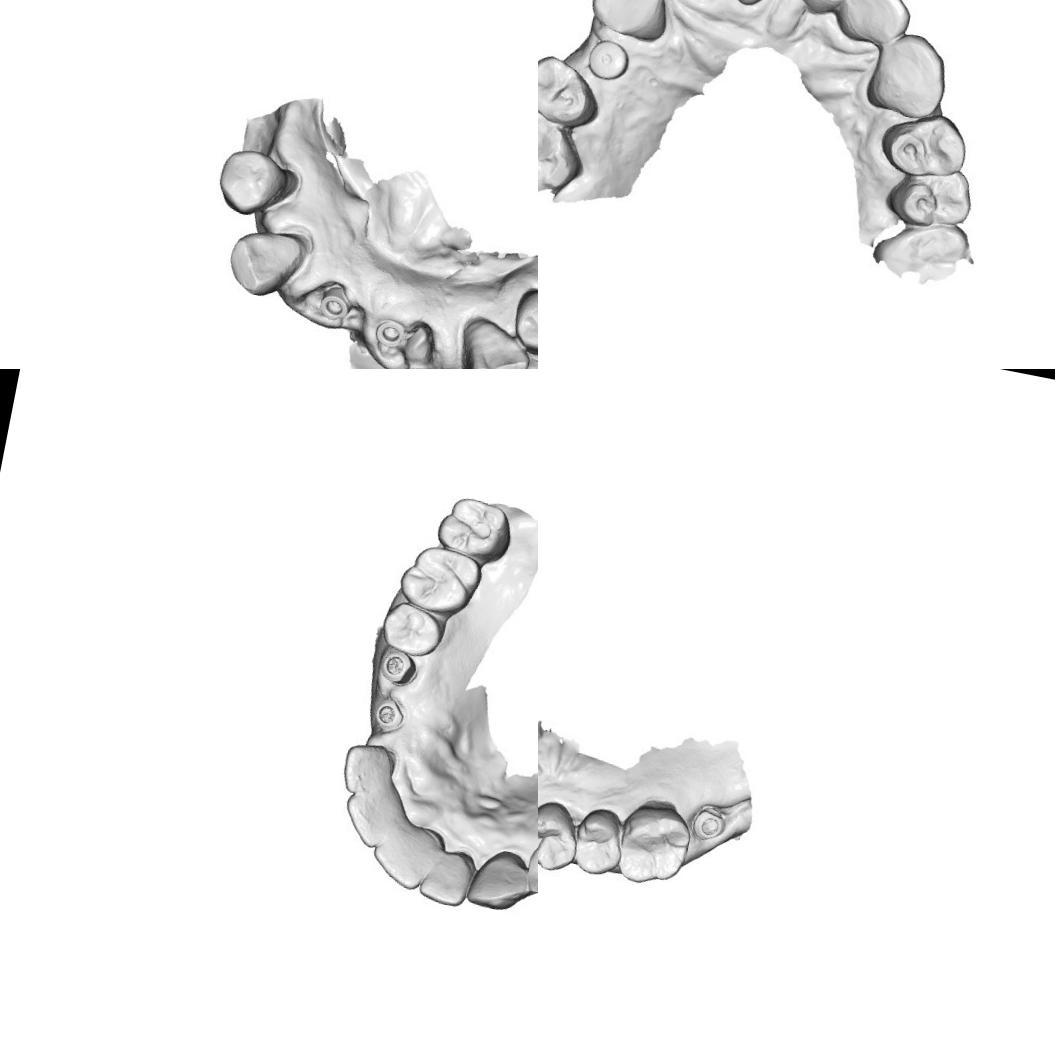canine: (865, 28, 954, 123), (220, 220, 307, 305), (464, 842, 536, 917), (450, 310, 535, 369), (581, 0, 679, 46)
implant: (584, 33, 634, 83), (313, 282, 356, 325), (688, 802, 731, 844), (375, 647, 414, 686), (370, 313, 410, 351), (372, 695, 408, 734)
incisor: (365, 829, 435, 894), (337, 740, 404, 805), (835, 0, 912, 51), (338, 788, 398, 852), (416, 848, 476, 910), (782, 0, 868, 21)
molar: (610, 793, 698, 894), (395, 539, 484, 620), (432, 491, 518, 564), (538, 97, 593, 196)
premolar: (873, 102, 970, 188), (877, 158, 977, 240), (212, 142, 296, 222), (538, 47, 608, 134), (568, 803, 630, 882), (378, 598, 448, 662), (538, 796, 586, 877), (506, 282, 538, 361), (522, 838, 538, 903)
